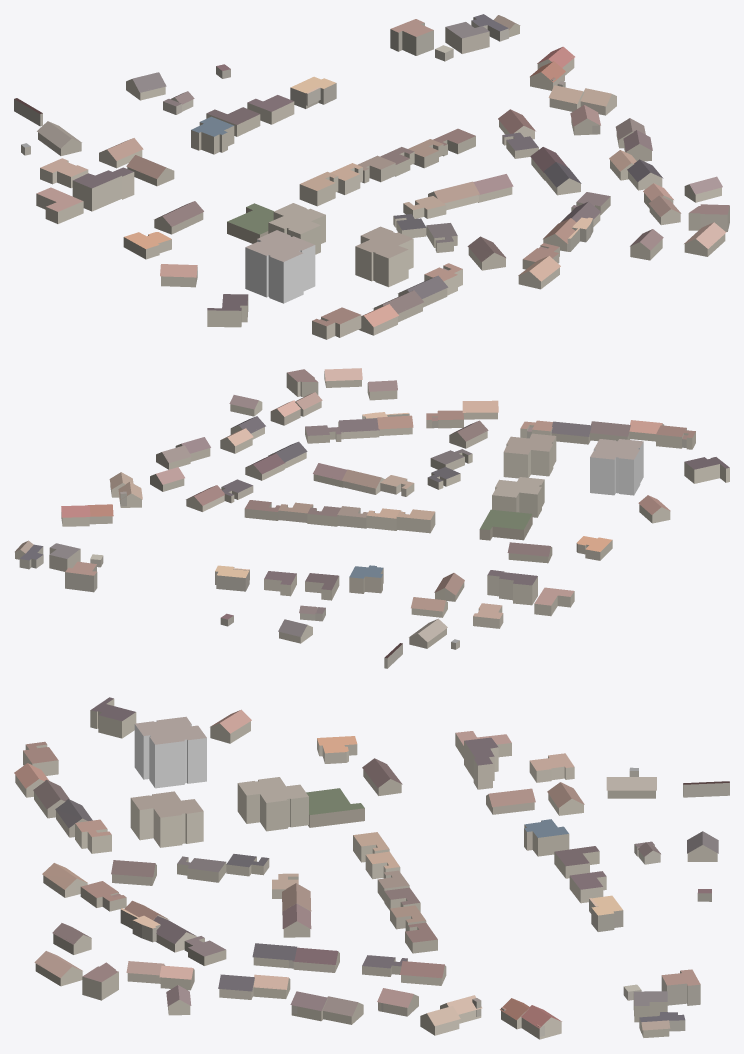
3 views of the same model, one above another, from view 1: azimuth 30°, elevation 25°; view 2: azimuth 150°, elevation 25°; view 3: azimuth 270°, elevation 25° (orthographic). The views are drawn at different scales.
Visible parts, largest first — view 1: tuile; view 2: tuile; view 3: tuile.
Boxes of the visible parts, box(x1,y1,x2,y2) form: tuile: box(14, 14, 729, 339); tuile: box(15, 368, 729, 668); tuile: box(14, 697, 729, 1039).
Bounding box in the file's own units: 256 × 30.66 × 265.
